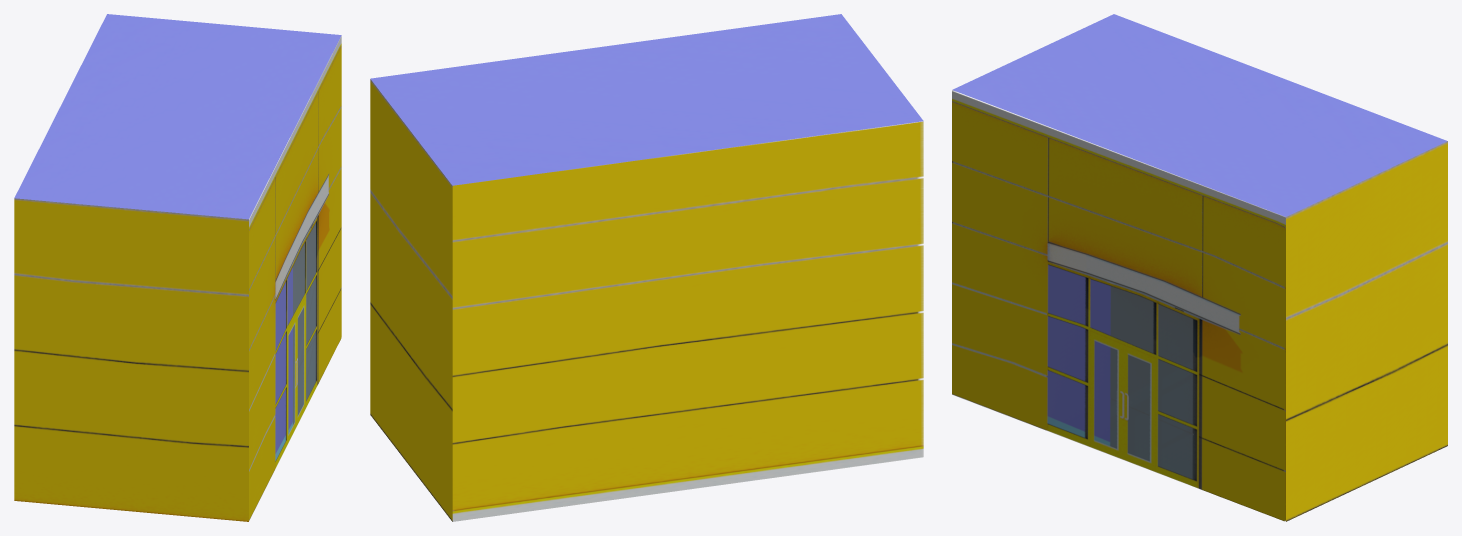
Rendered from yellowStore.glb.
3 views of the same model, side by side, from view 1: azimuth 30°, elevation 25°; view 2: azimuth 150°, elevation 25°; view 3: azimuth 270°, elevation 25° (orthographic). The views are drawn at different scales.
Parts seen in each view (by area): view 1: StoreFront_Yellow_Placeholder; view 2: StoreFront_Yellow_Placeholder; view 3: StoreFront_Yellow_Placeholder.
Boxes of the visible parts, left/top/right/bottom form: StoreFront_Yellow_Placeholder: left=14, top=14, right=341, bottom=521; StoreFront_Yellow_Placeholder: left=370, top=14, right=923, bottom=521; StoreFront_Yellow_Placeholder: left=952, top=14, right=1447, bottom=521.
Bounding box in the file's own units: 9.8 × 6.86 × 10.11.
1 material, 1 textured.
